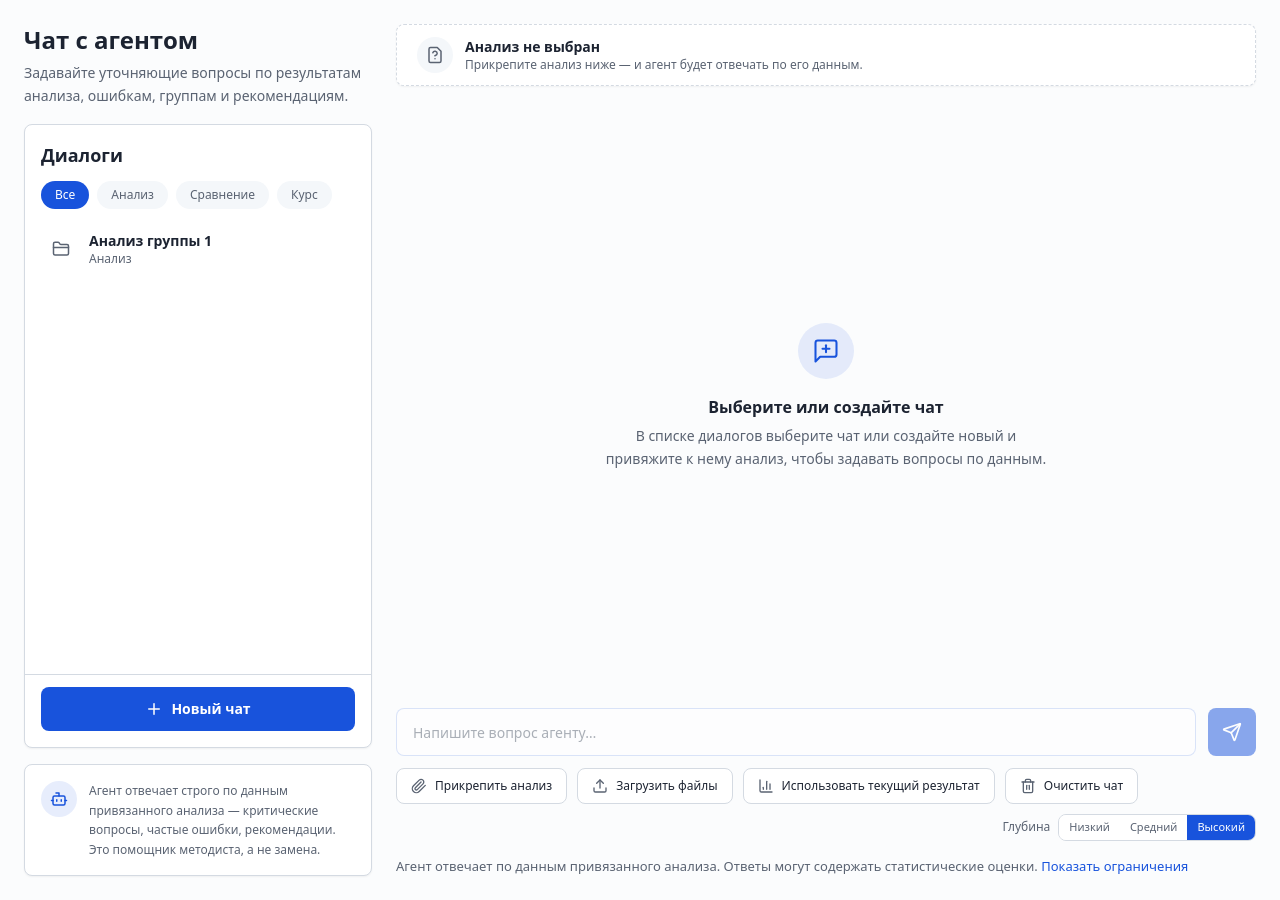
Test: ChatScreen › shows a graceful error block on an error event
The width and height of the screenshot is (1280, 900).
Click the text "Анализ группы 1": [151, 240] box [89,230,212,250]
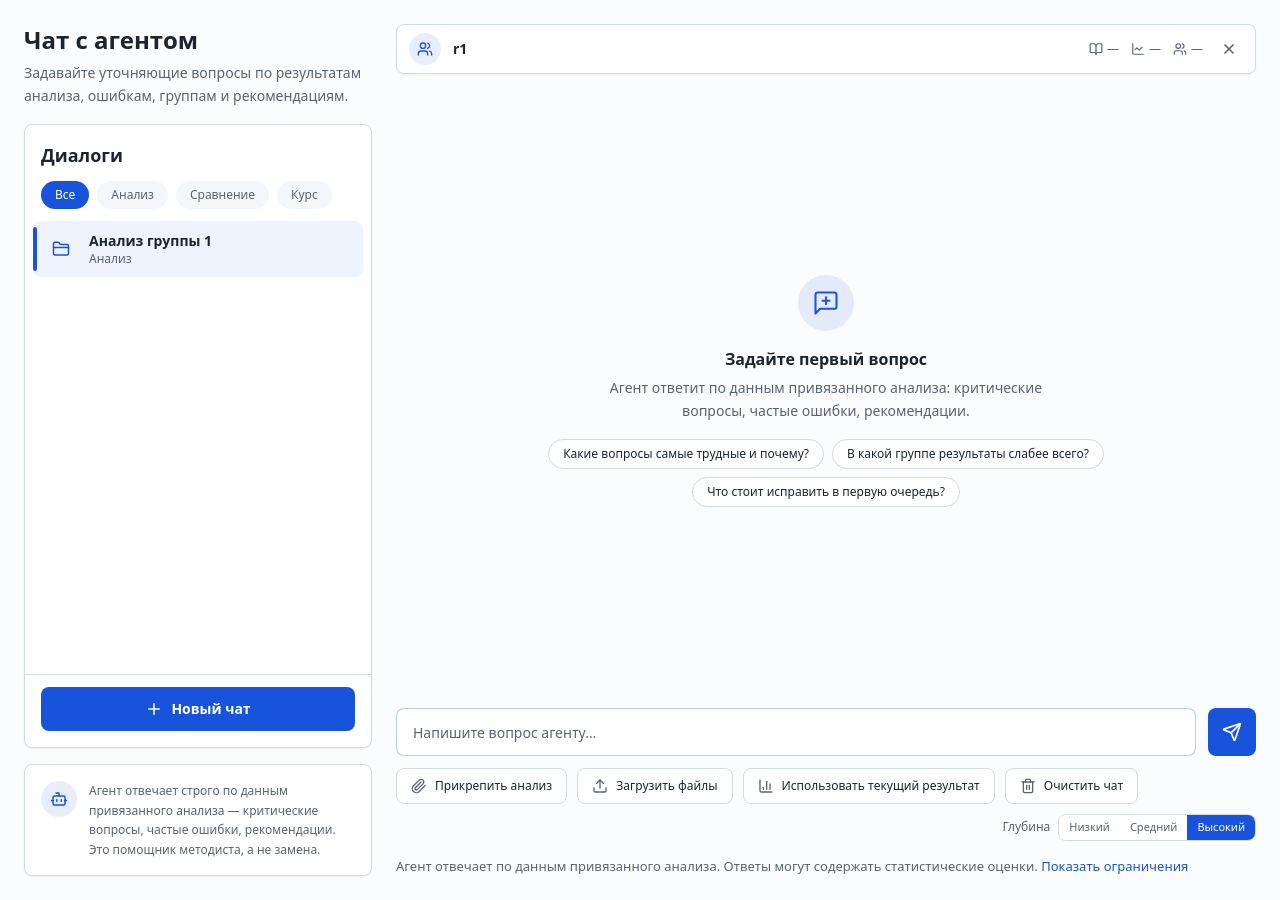
In the field with placeholder "Напишите вопрос агенту…": [796, 732] box [396,708,1196,756], type "вопрос"
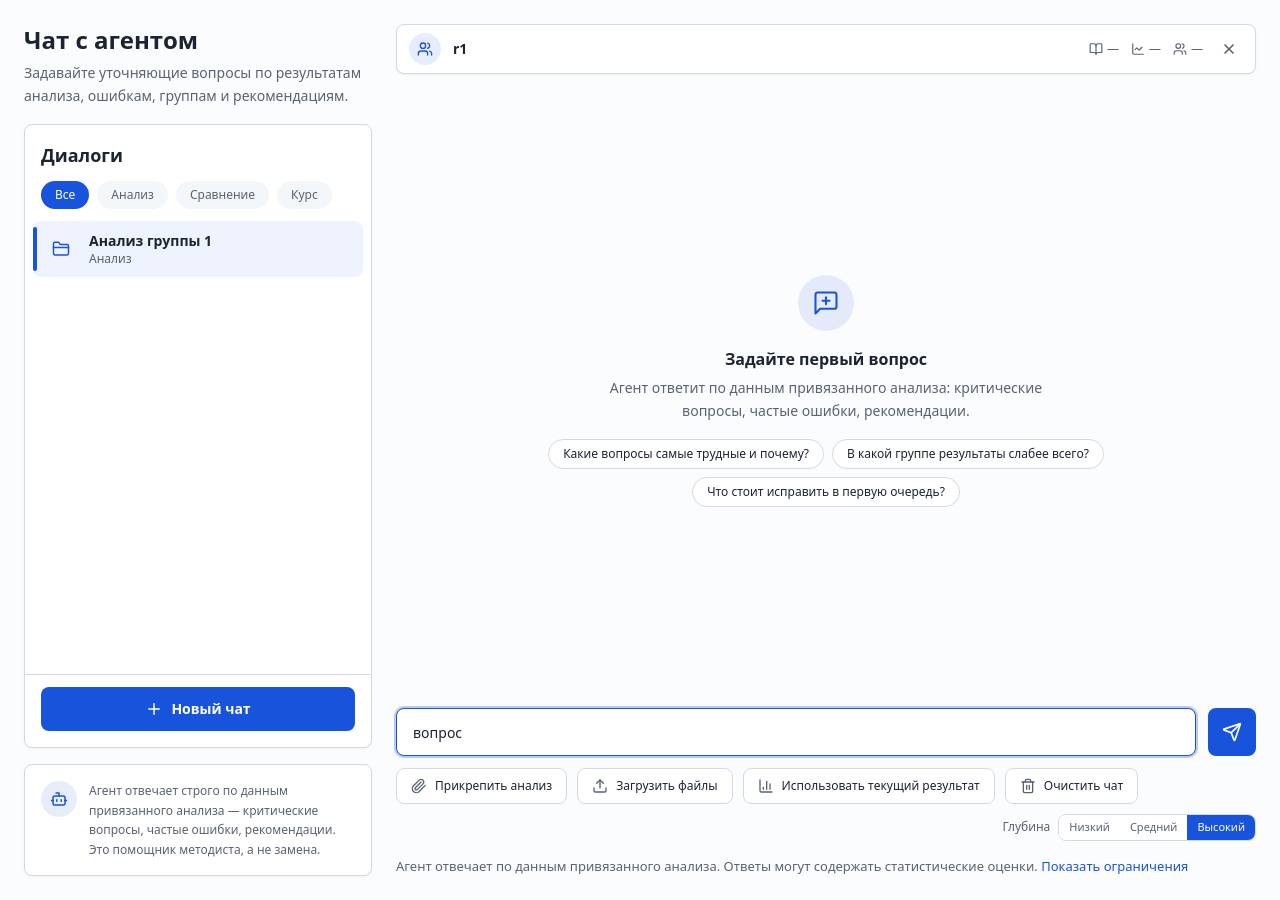
Click the button named "Отправить": [1232, 732] box [1208,708,1256,756]
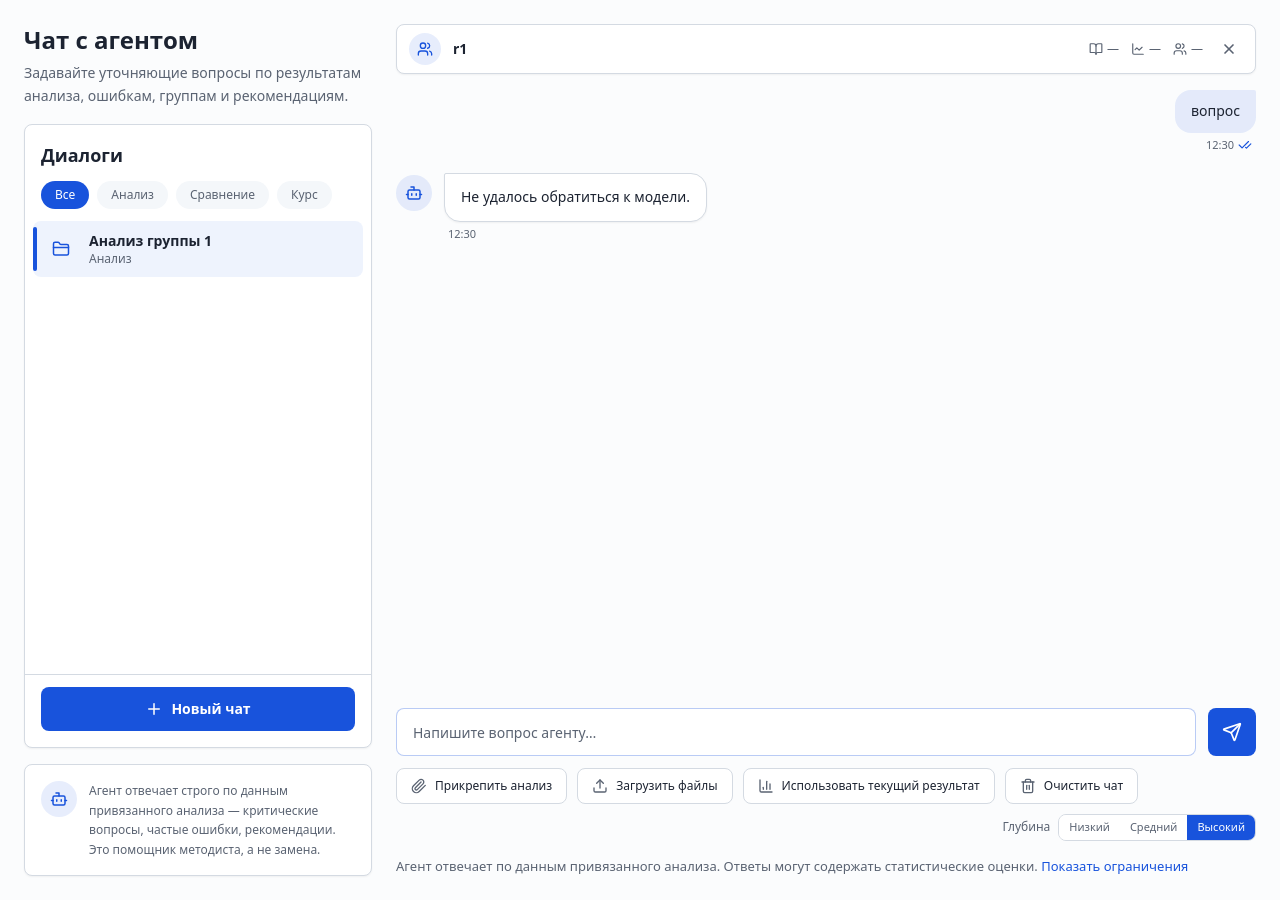
Expected: the text "Не удалось обратиться к модели." is shown, [461,186,690,209]
